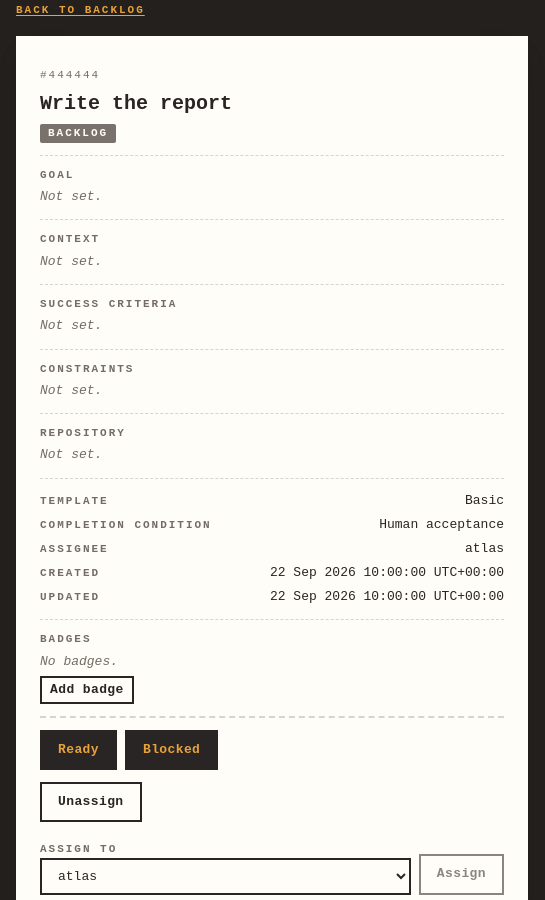
Test: TicketDetailPage › carries Galley's missing inputs from a rejected Status change to the receipt
Expected: the heading "Write the report" is shown, 40,92 -> 232,114
Click the button with test id "ticket-detail-status-button-Ready". click: (78, 750)
box: 40,730 -> 117,770
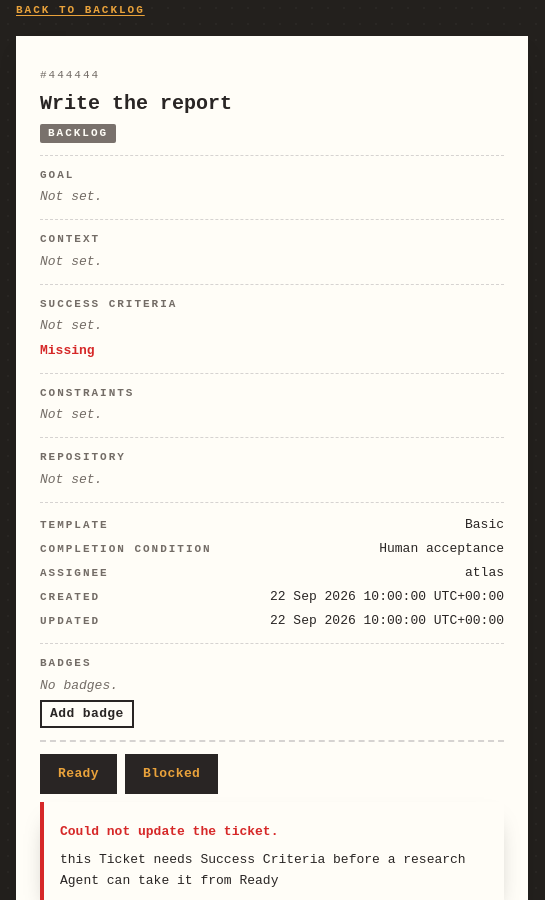
Expected: the text with test id "ticket-detail-action-error" shows "this Ticket needs Success Criteria before a research Agent can take it from Ready", 60,852 -> 466,888
Expected: the text "Missing" is shown, 40,342 -> 95,358
